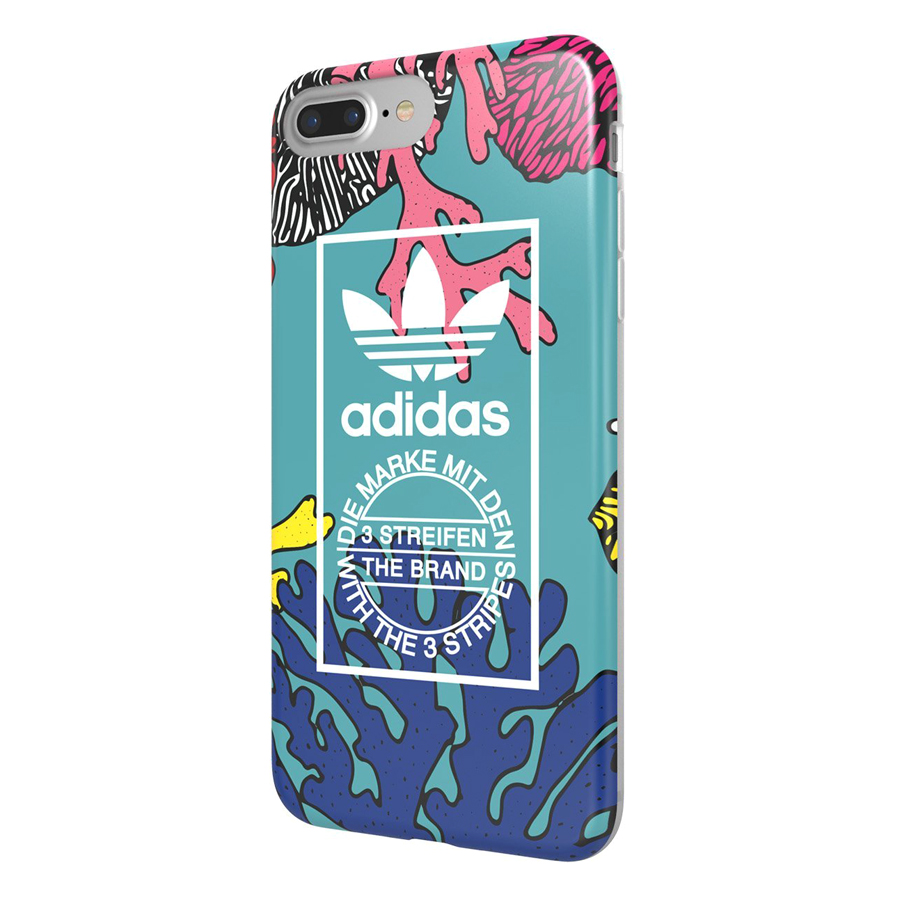Adidas: (327, 243, 524, 443)
